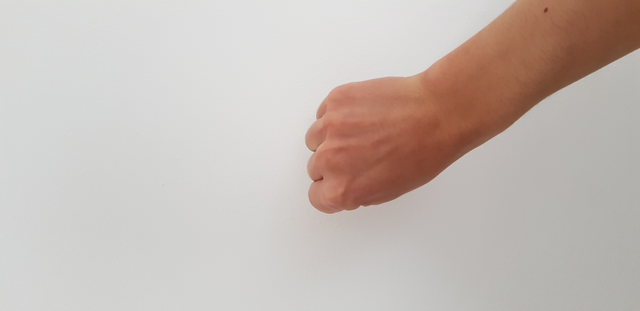Rock: (267, 52, 476, 226)
